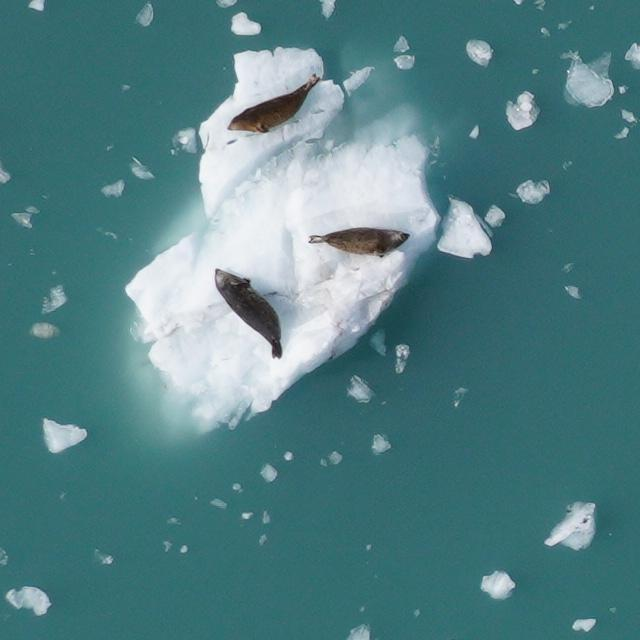seal: (215, 267, 283, 359), (227, 71, 322, 134), (308, 228, 409, 259)
